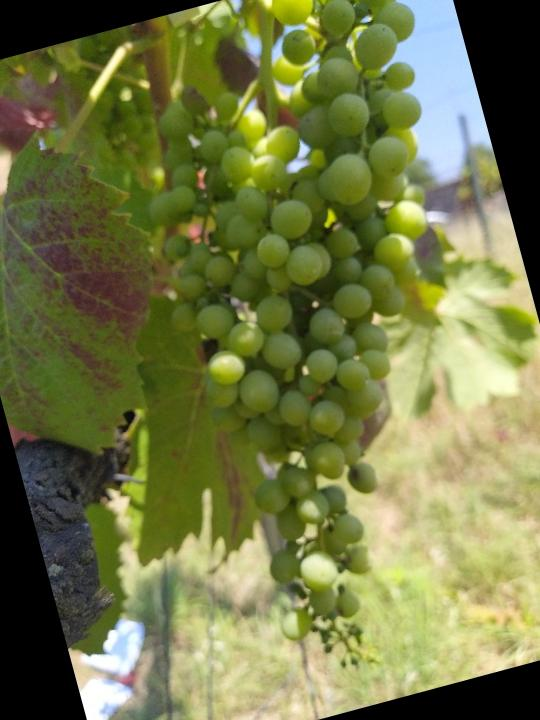grape: (87, 0, 540, 699)
